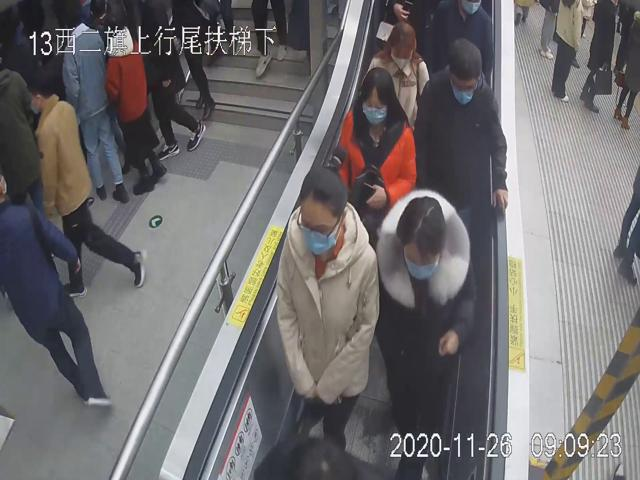person: (275, 147, 379, 453), (374, 185, 477, 480), (414, 37, 510, 230), (329, 64, 417, 232), (361, 20, 430, 129)
